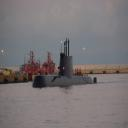submarine: (33, 38, 99, 89)
